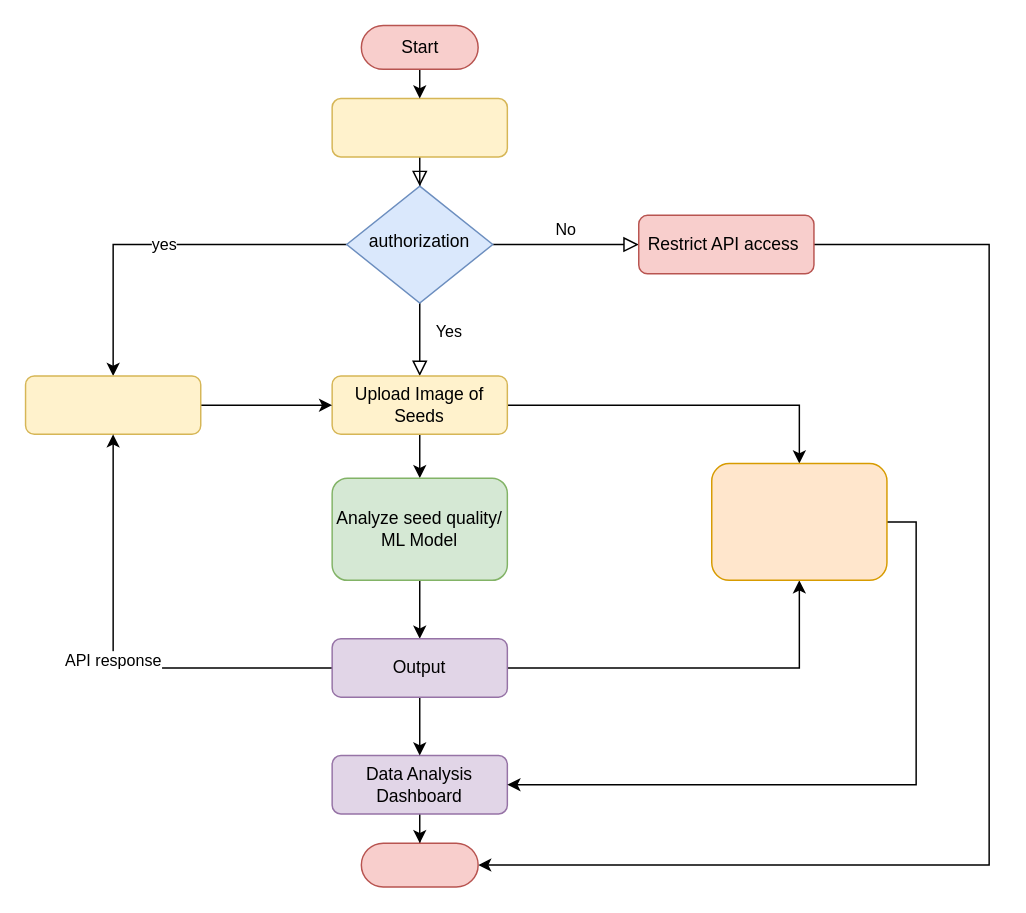
This 1026x913 diagram has some shape labels left out. Here are the shapes that lost their labels. From the top down, the centre of each, then its label:
the point at 419,127: Login / Get token for API
the point at 112,404: REST API call
the point at 798,521: Data Analysis/ Visualization
the point at 419,864: End
